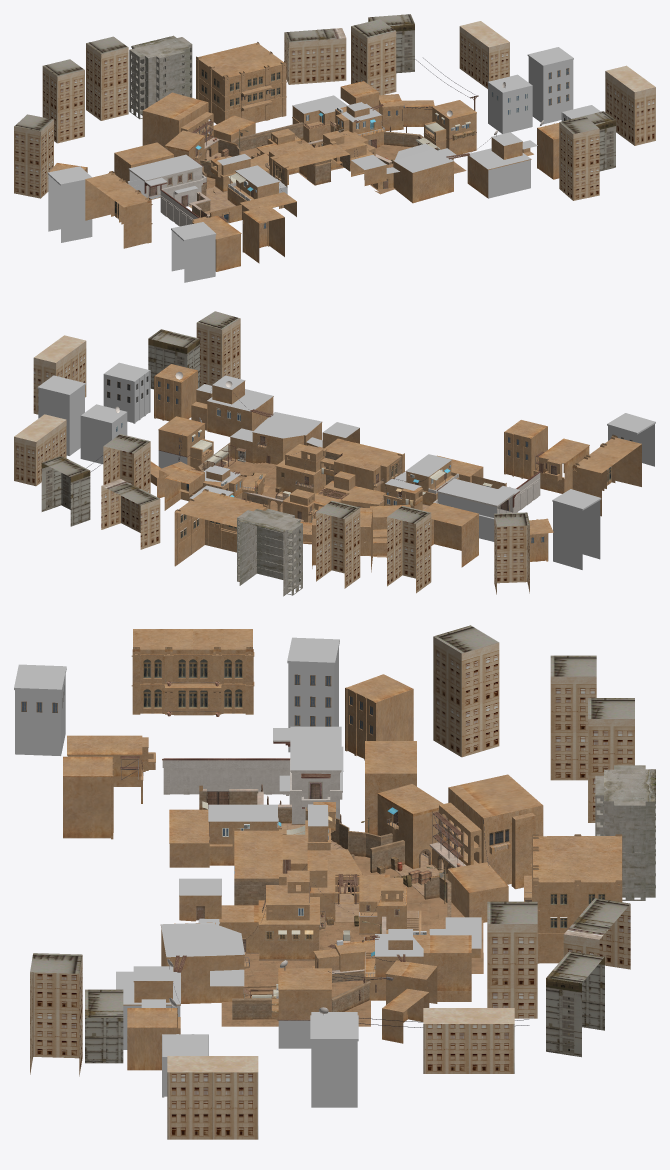
Rendered from diddy dunes.glb.
3 views of the same model, one above another, from view 1: azimuth 30°, elevation 25°; view 2: azimuth 150°, elevation 25°; view 3: azimuth 270°, elevation 25° (orthographic). The views are drawn at different scales.
Parts seen in each view (by area): view 1: 1_Sandstone_d2_0_2, 1_wall1_0_3, 1_Material #19859_0_0, Sandyards_wall3_0_9, Sandyards_wall1_0_8, Sandyards_wall5_0_10, Sandyards_Sandstone_D_0_7; view 2: 1_Sandstone_d2_0_2, 1_wall1_0_3, 1_Material #19859_0_0, Sandyards_wall1_0_8, Sandyards_wall3_0_9, Sandyards_Sandstone_D_0_7, Sandyards_wall5_0_10; view 3: 1_Sandstone_d2_0_2, 1_wall1_0_3, 1_Material #19859_0_0, Sandyards_wall1_0_8, Sandyards_wall5_0_10, Sandyards_Sandstone_D_0_7, Sandyards_wall3_0_9, Sandyards_Sandstone_d2_0_6, 1_Material #19871_0_1.
Boxes of the visible parts, box(x1,y1,x2,y2) form: 1_Sandstone_d2_0_2: box(14, 14, 655, 200); 1_wall1_0_3: box(47, 42, 559, 271); 1_Material #19859_0_0: box(47, 47, 600, 282); Sandyards_wall3_0_9: box(210, 105, 533, 208); Sandyards_wall1_0_8: box(165, 87, 476, 222); Sandyards_wall5_0_10: box(128, 122, 466, 226); Sandyards_Sandstone_D_0_7: box(115, 58, 569, 228); 1_Sandstone_d2_0_2: box(14, 311, 529, 596); 1_wall1_0_3: box(150, 364, 641, 581); 1_Material #19859_0_0: box(37, 362, 655, 569); Sandyards_wall1_0_8: box(158, 424, 564, 565); Sandyards_wall3_0_9: box(187, 380, 459, 510); Sandyards_Sandstone_D_0_7: box(87, 371, 632, 543); Sandyards_wall5_0_10: box(198, 442, 540, 557); 1_Sandstone_d2_0_2: box(30, 625, 655, 1139); 1_wall1_0_3: box(63, 629, 622, 1070); 1_Material #19859_0_0: box(14, 637, 481, 1107); Sandyards_wall1_0_8: box(67, 737, 543, 1020); Sandyards_wall5_0_10: box(162, 740, 483, 1026); Sandyards_Sandstone_D_0_7: box(21, 659, 605, 1027); Sandyards_wall3_0_9: box(123, 802, 481, 1034); Sandyards_Sandstone_d2_0_6: box(202, 789, 465, 974); 1_Material #19871_0_1: box(179, 878, 221, 895).
Size of what is drawn, in the model's own units: 155 by 24.56 by 100.
Materials: 7 (5 with a texture image).
